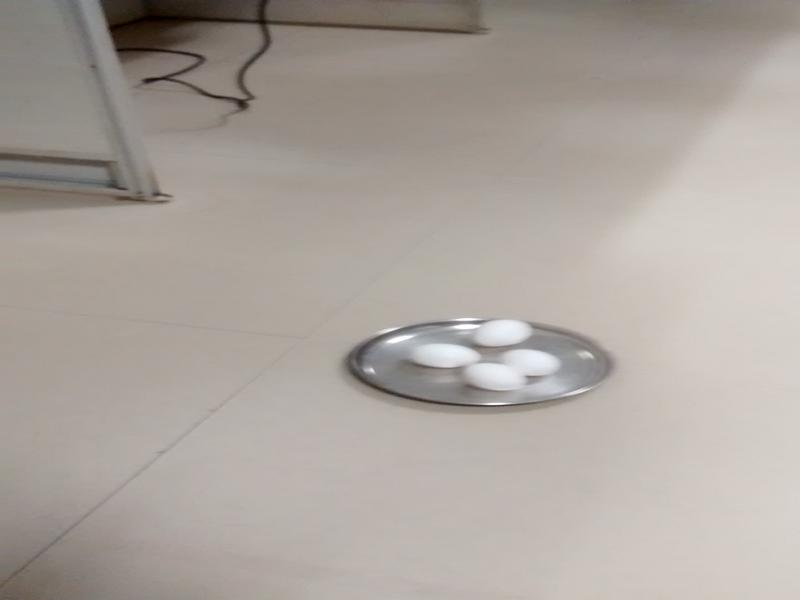egg: (501, 343, 552, 373)
